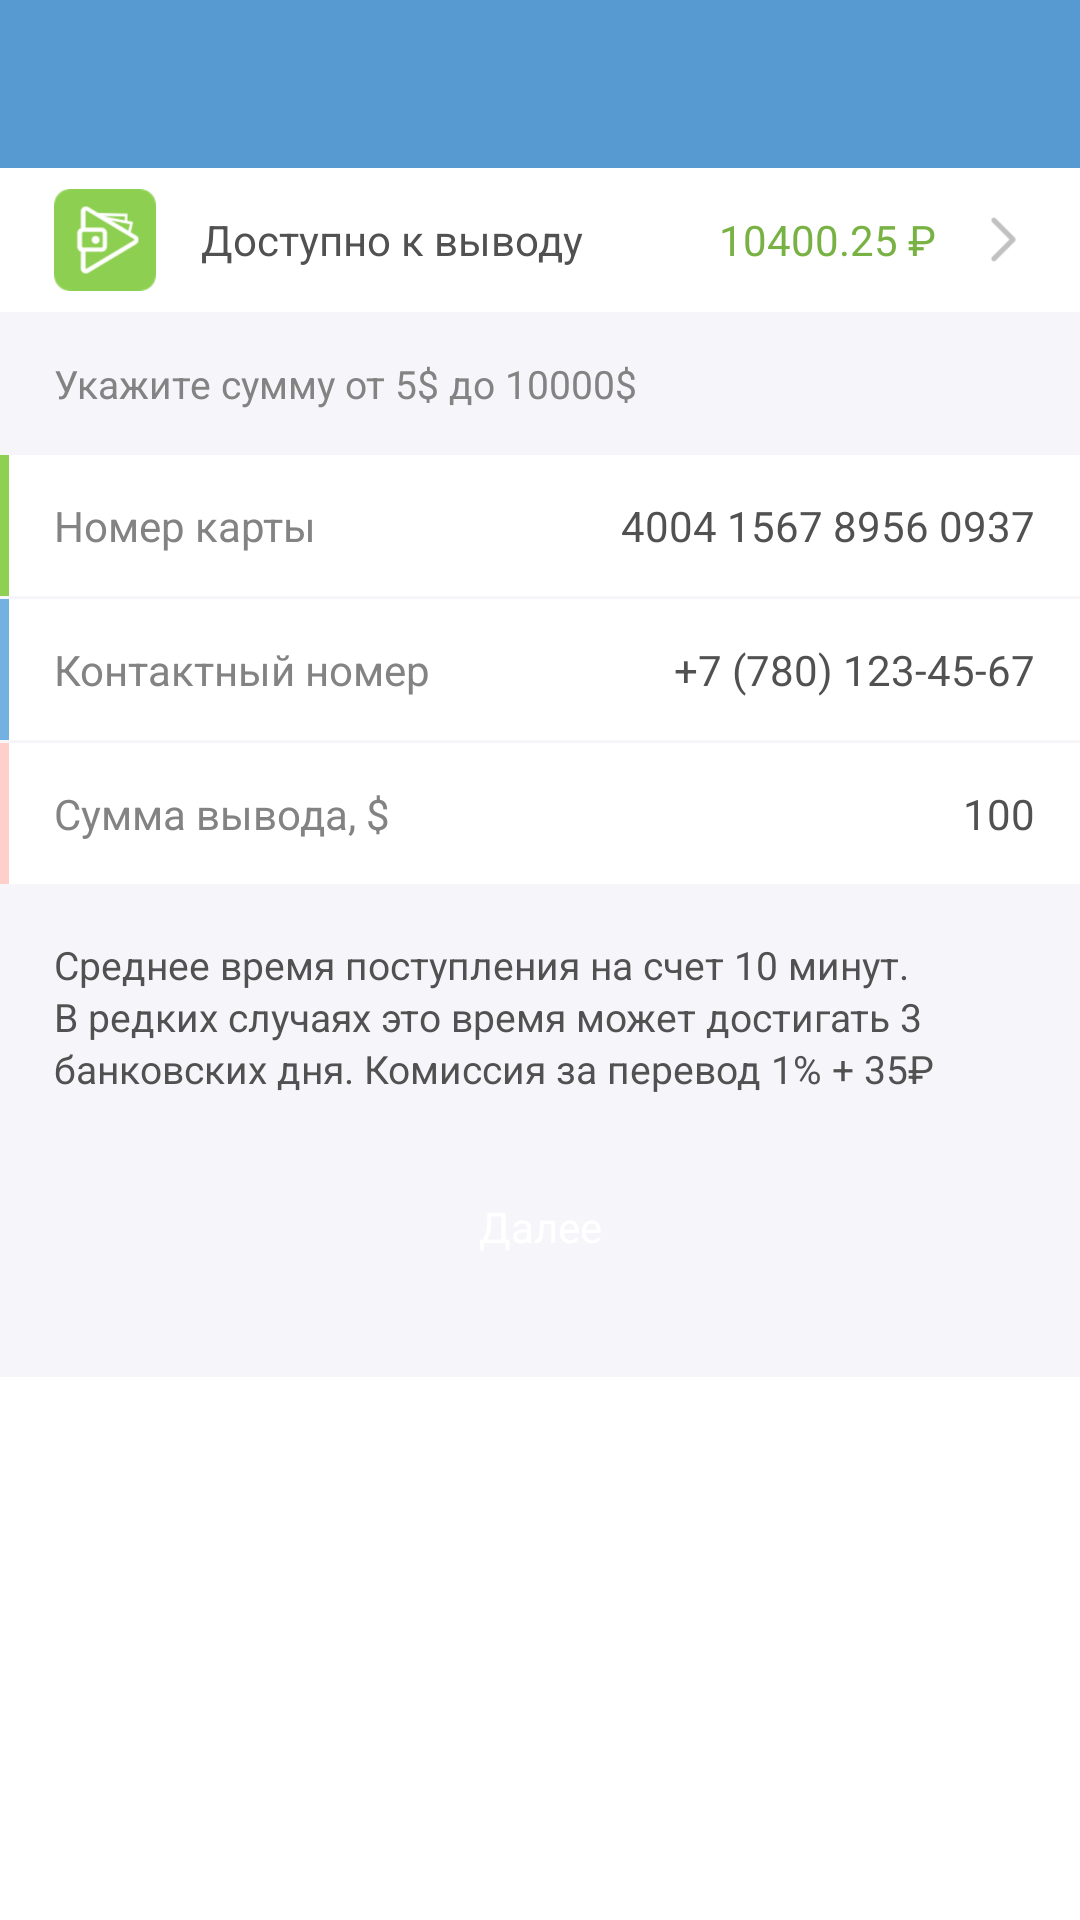

Where icons sit on this 1080px x 1920px app screen, as (x1, y1, x2, y2):
iconbalance: (54, 189, 156, 291)
iconrighttoarrow: (991, 218, 1016, 261)
